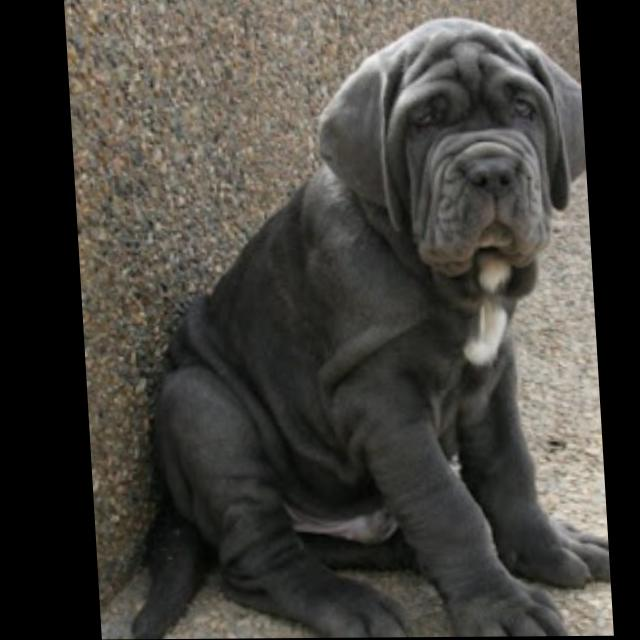mastino_napoletano: (94, 16, 606, 640)
